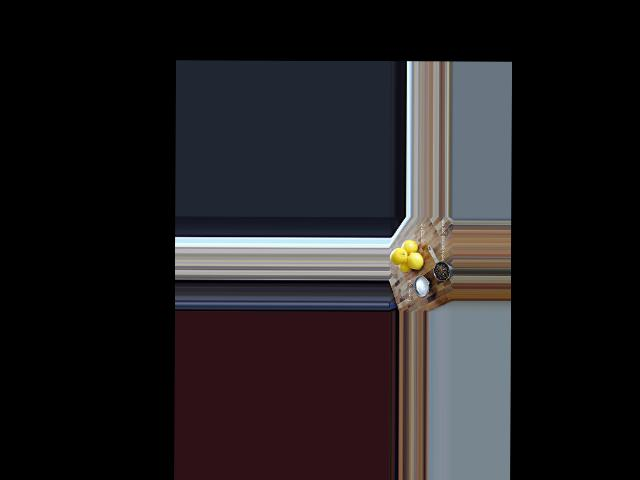lemon: (399, 260, 412, 274)
